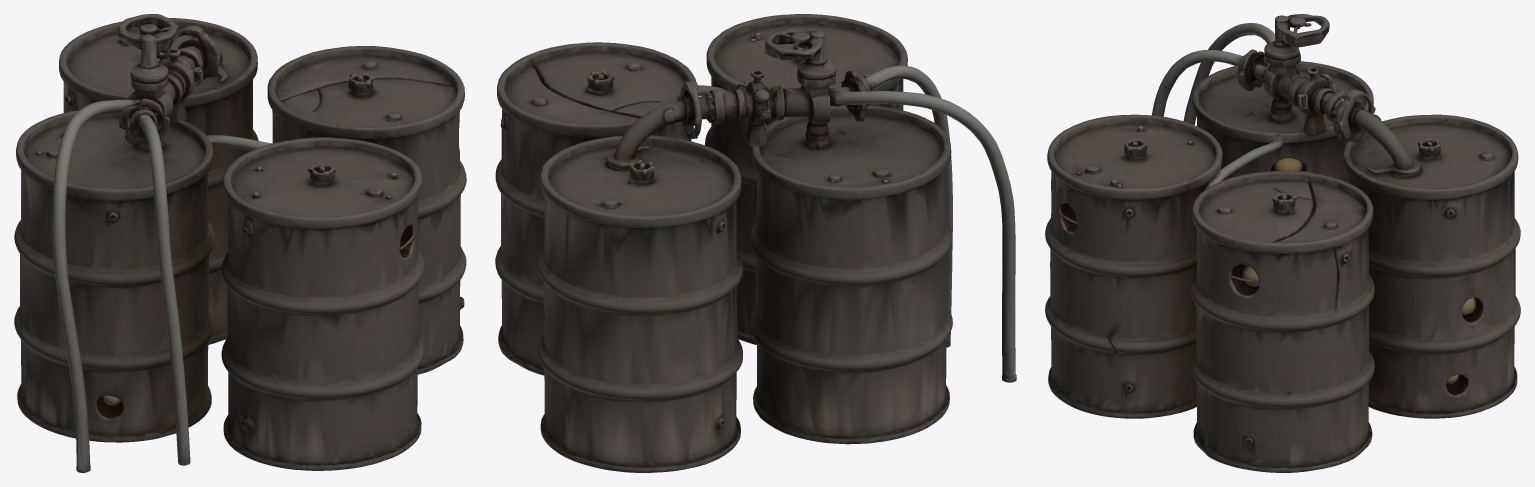
The model's file is machines-2.glb.
3 views of the same model, side by side, from view 1: azimuth 30°, elevation 25°; view 2: azimuth 150°, elevation 25°; view 3: azimuth 270°, elevation 25° (orthographic). The views are drawn at different scales.
Visible parts, largest first — view 1: tripo_node_7b33668b-c767-4606-ba5d-dbe5d867d37b; view 2: tripo_node_7b33668b-c767-4606-ba5d-dbe5d867d37b; view 3: tripo_node_7b33668b-c767-4606-ba5d-dbe5d867d37b.
Part boxes in pixels (<box>): tripo_node_7b33668b-c767-4606-ba5d-dbe5d867d37b: <box>14,14,466,472</box>; tripo_node_7b33668b-c767-4606-ba5d-dbe5d867d37b: <box>495,14,1016,472</box>; tripo_node_7b33668b-c767-4606-ba5d-dbe5d867d37b: <box>1045,14,1520,472</box>.
Bounding box in the file's own units: 0.9808 × 0.7526 × 0.9998.
Materials: 1 (1 with a texture image).
